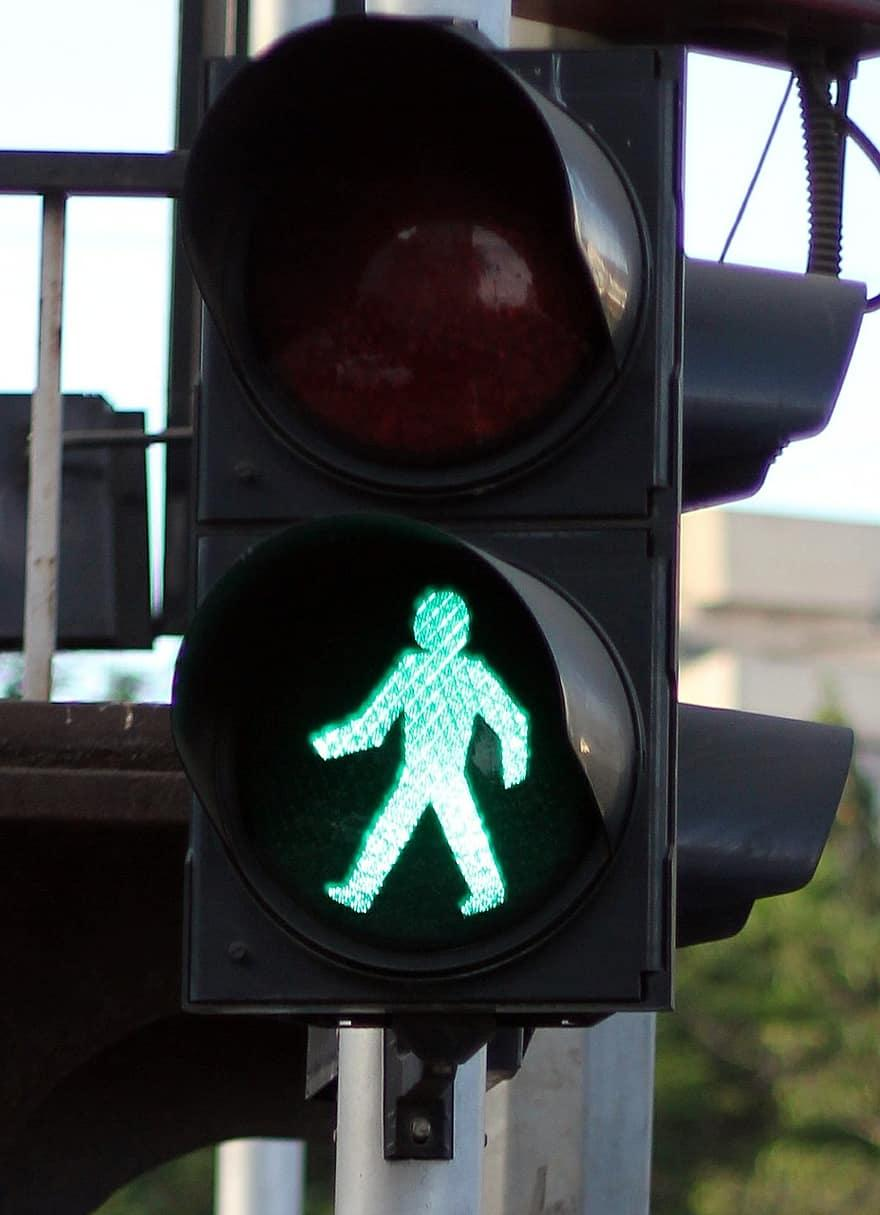traffic light: (179, 17, 683, 1000)
